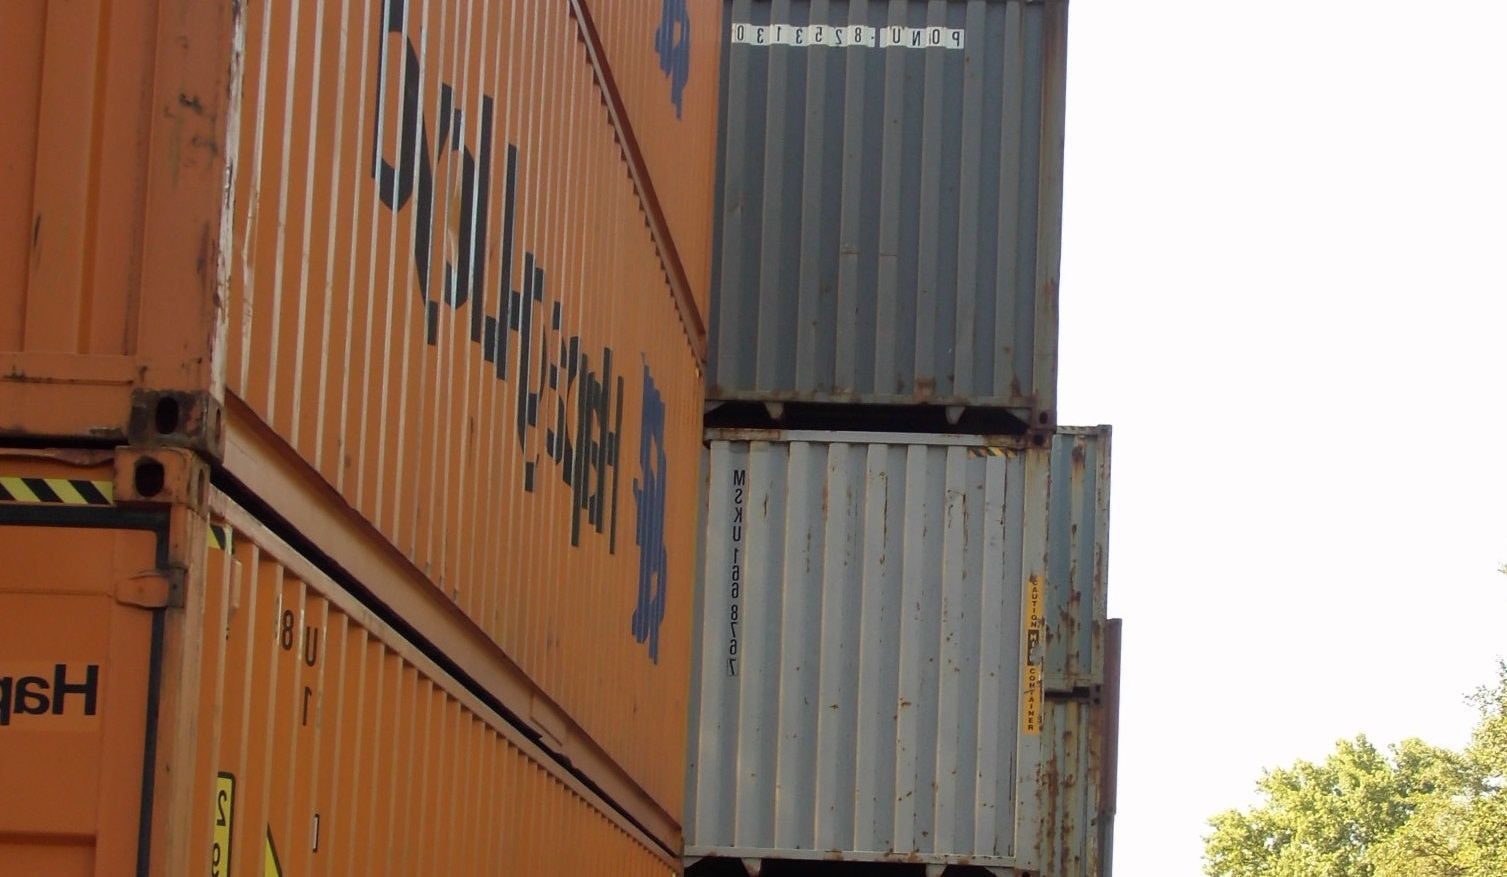container_no_door: (694, 432, 1049, 877), (723, 10, 1068, 405)
